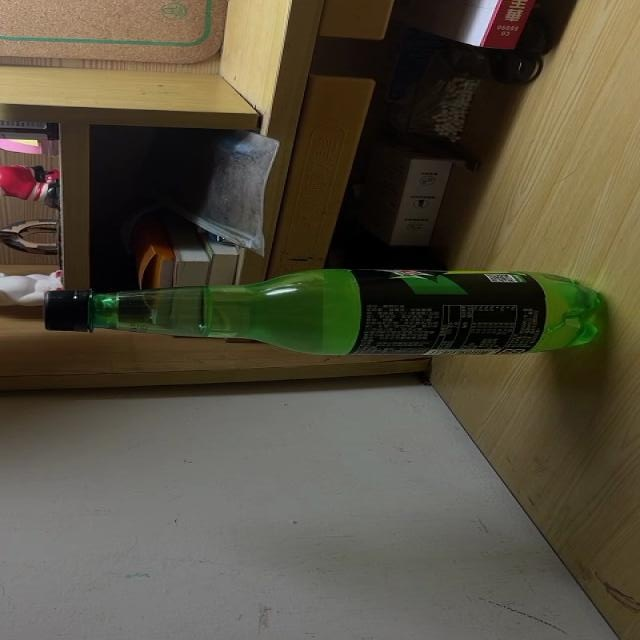Mountain-Dew: (43, 268, 605, 356)
